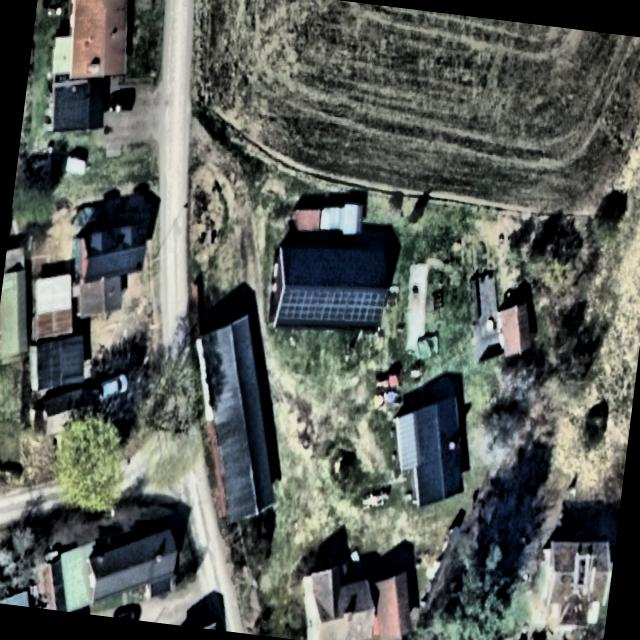roof_pv: (280, 278, 388, 334)
